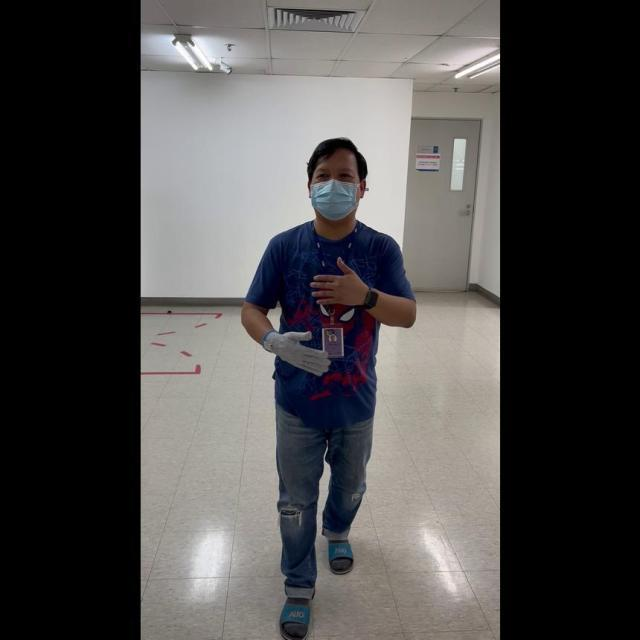bare_hand: (308, 254, 373, 309)
gloved_hand: (265, 324, 330, 376)
